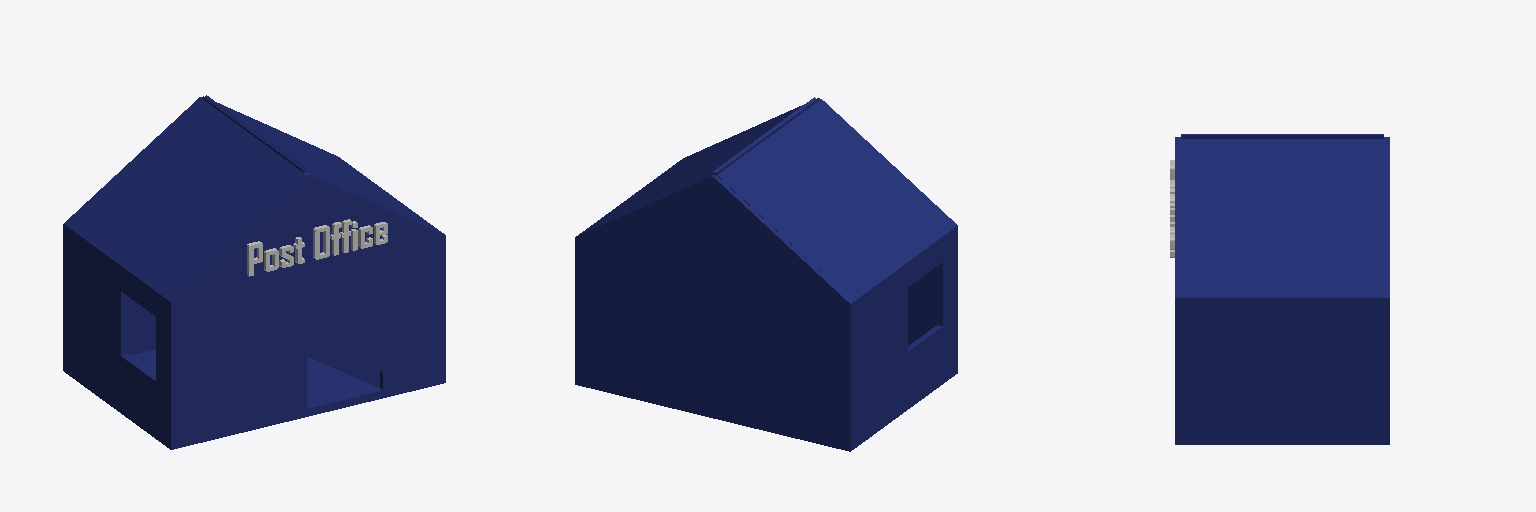
File: PostOffice.obj
3 views of the same model, side by side, from view 1: azimuth 30°, elevation 25°; view 2: azimuth 150°, elevation 25°; view 3: azimuth 270°, elevation 25° (orthographic).
Parts seen in each view (by area): view 1: Cube, Text; view 2: Cube; view 3: Cube.
Boxes of the visible parts, box(x1,y1,x2,y2) form: Cube: box(63, 95, 445, 449); Text: box(247, 219, 387, 276); Cube: box(575, 97, 957, 451); Cube: box(1175, 134, 1389, 444).
Size of the model in its own units: 14.76 by 12.53 by 10.22.